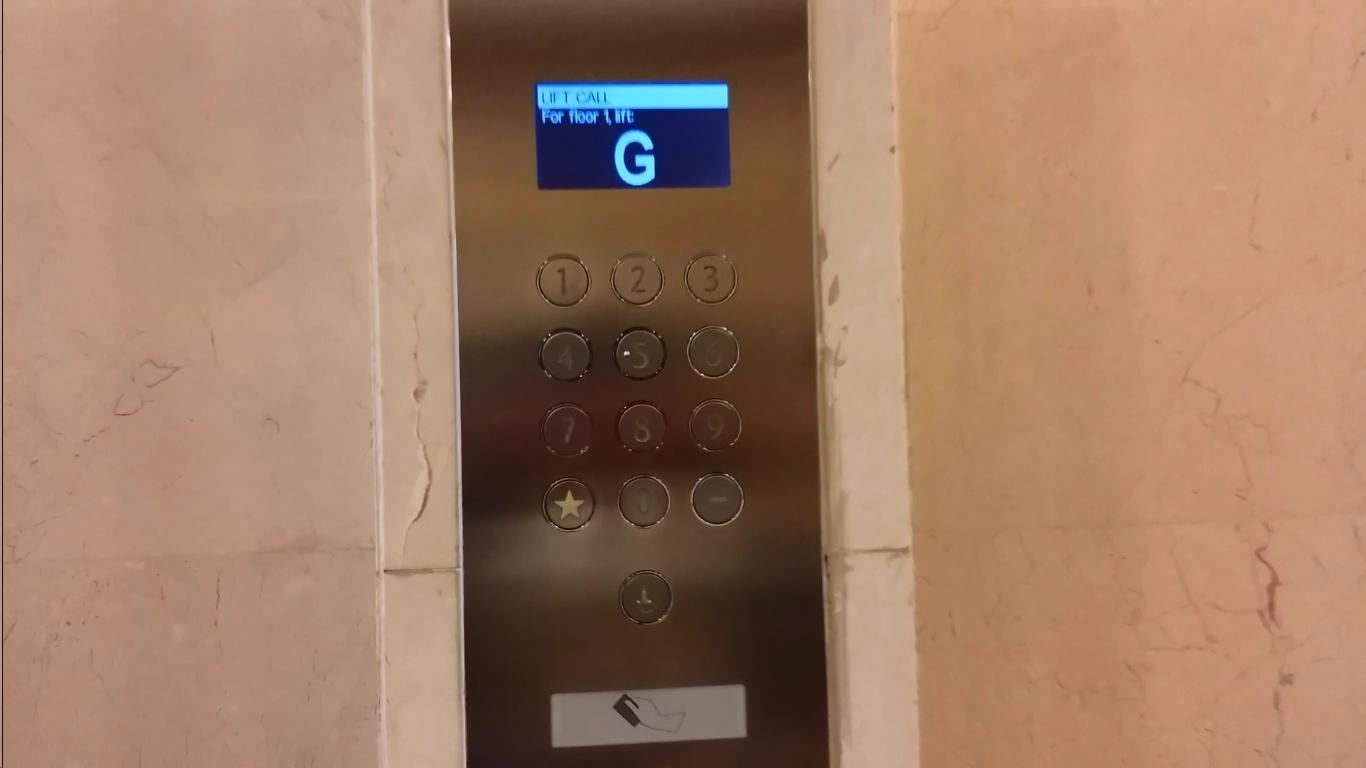-: (687, 467, 747, 530)
1: (533, 248, 593, 310)
2: (607, 247, 667, 309)
3: (680, 249, 740, 307)
4: (535, 324, 596, 385)
5: (609, 323, 670, 384)
6: (682, 321, 743, 382)
7: (537, 400, 597, 462)
8: (611, 397, 671, 459)
9: (684, 395, 744, 457)
blur: (613, 469, 673, 532)
led: (529, 75, 735, 194)
s: (539, 471, 599, 534)
unknown: (616, 565, 675, 627)
